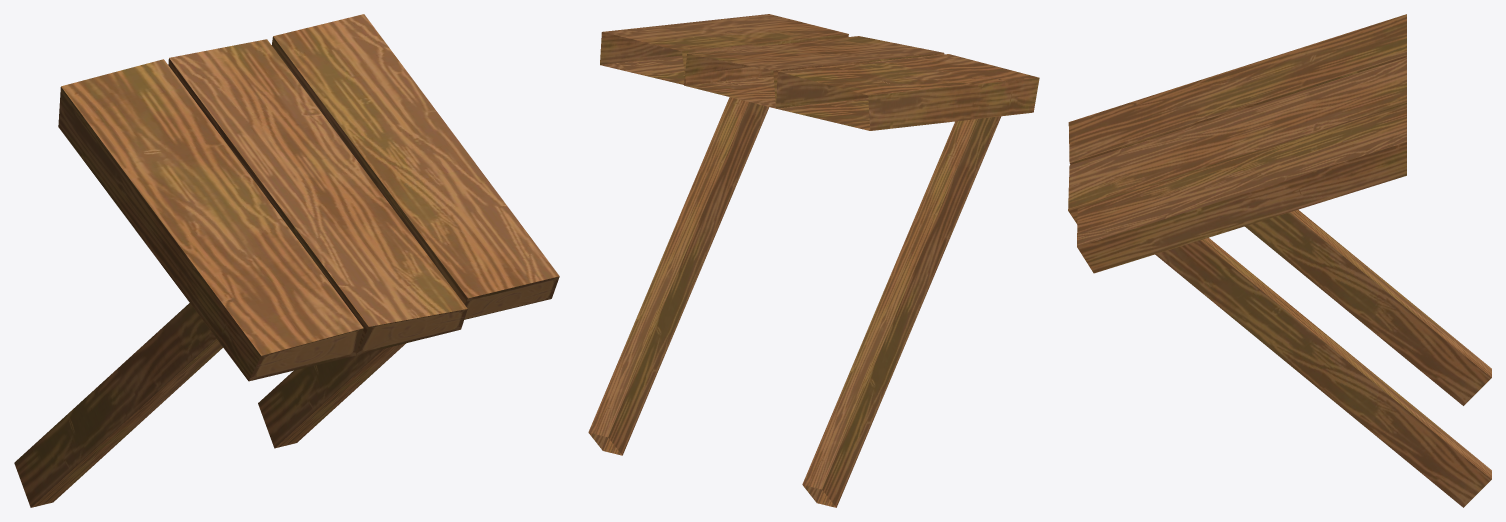
File: Window_Roof_Thin.glb
The picture shows the model from 3 angles, left to right: view 1: azimuth 30°, elevation 25°; view 2: azimuth 150°, elevation 25°; view 3: azimuth 270°, elevation 25°; orthographic projection. The views are drawn at different scales.
Visible parts, largest first — view 1: Window_Roof_Thin; view 2: Window_Roof_Thin; view 3: Window_Roof_Thin.
Boxes of the visible parts, x1=… form: Window_Roof_Thin: x1=14, y1=14, x2=559, y2=507; Window_Roof_Thin: x1=588, y1=14, x2=1039, y2=507; Window_Roof_Thin: x1=1068, y1=14, x2=1491, y2=507.
Bounding box in the file's own units: 0.8519 × 1.18 × 1.18.
Materials: 1 (1 with a texture image).
